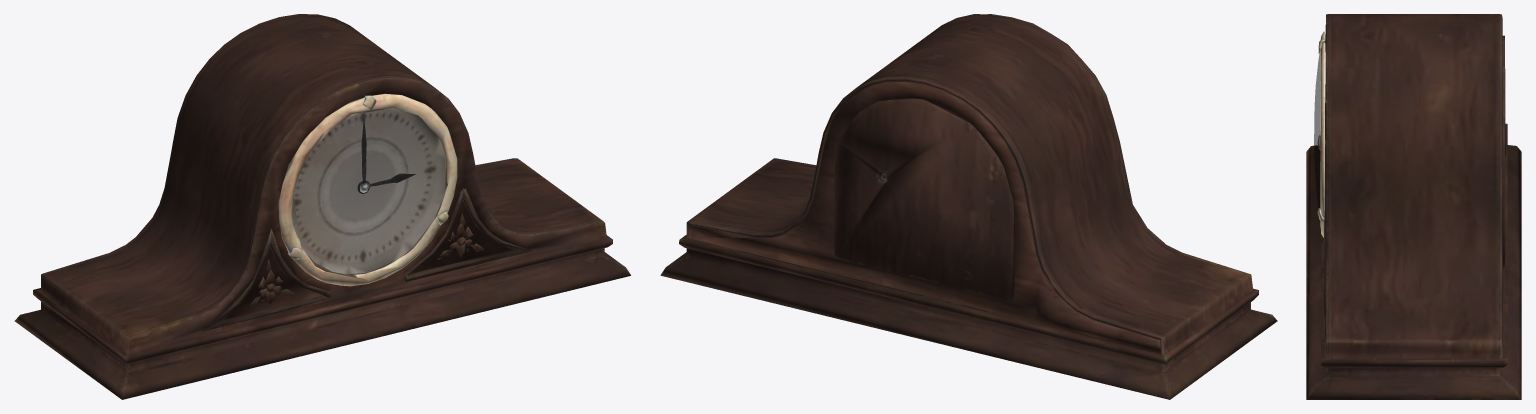
The model's file is mantel_clock_01.glb.
3 views of the same model, side by side, from view 1: azimuth 30°, elevation 25°; view 2: azimuth 150°, elevation 25°; view 3: azimuth 270°, elevation 25° (orthographic).
Visible parts, largest first — view 1: mantel_clock_01, mantel_clock_01_glass; view 2: mantel_clock_01; view 3: mantel_clock_01, mantel_clock_01_glass.
Part boxes in pixels (x1,y1,x2,y2): mantel_clock_01: (14, 14, 630, 399); mantel_clock_01_glass: (292, 108, 447, 276); mantel_clock_01: (660, 14, 1277, 399); mantel_clock_01: (1306, 14, 1521, 399); mantel_clock_01_glass: (1314, 49, 1320, 207).
Size of the model in its own units: 0.3418 by 0.1604 by 0.1252.
2 materials, 2 textured.
